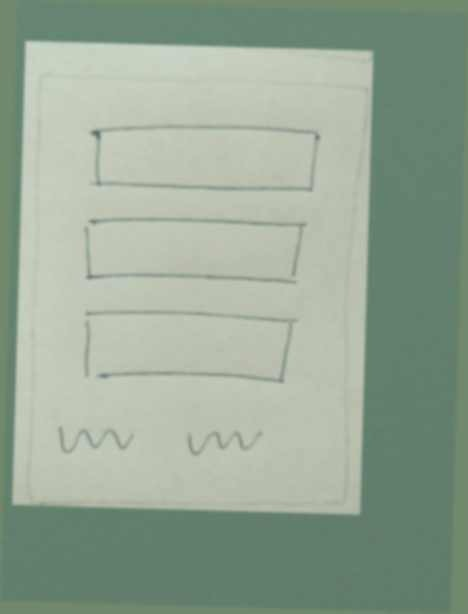text: (49, 416, 144, 460), (174, 417, 265, 461)
text_input: (72, 303, 304, 393), (81, 115, 323, 200), (75, 209, 312, 293)
